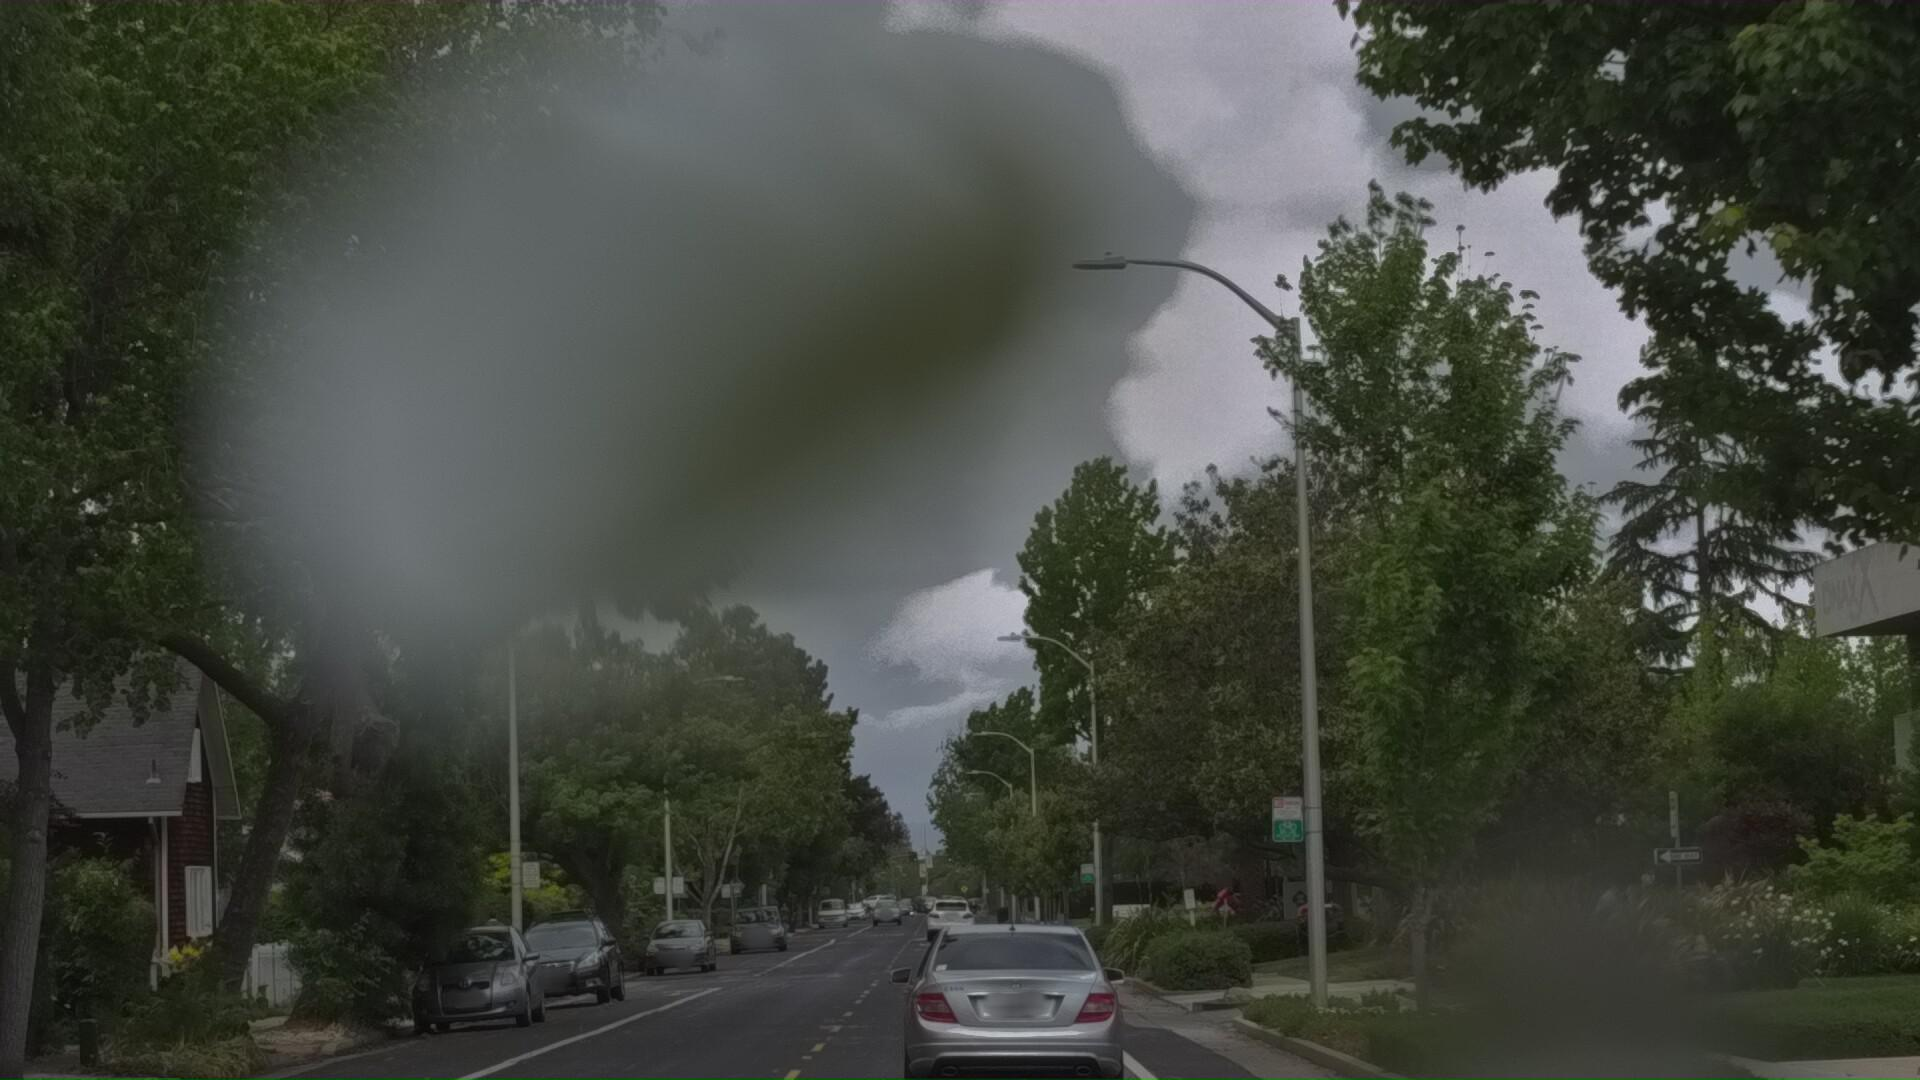car: (898, 928, 1143, 1080), (418, 938, 566, 1065), (502, 920, 654, 1039)
